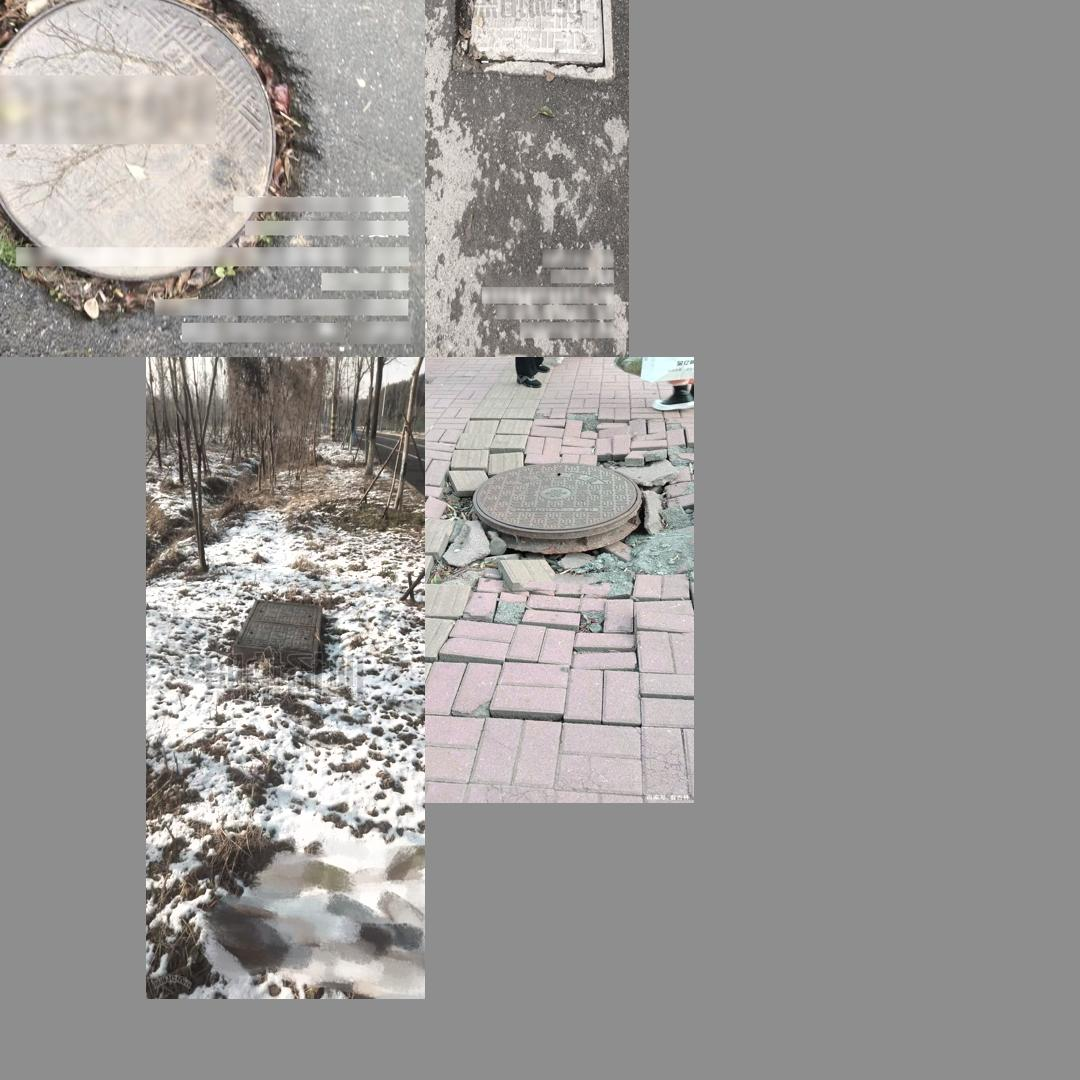circle: (0, 0, 323, 314), (430, 423, 690, 638), (449, 0, 611, 79), (226, 599, 326, 677)
